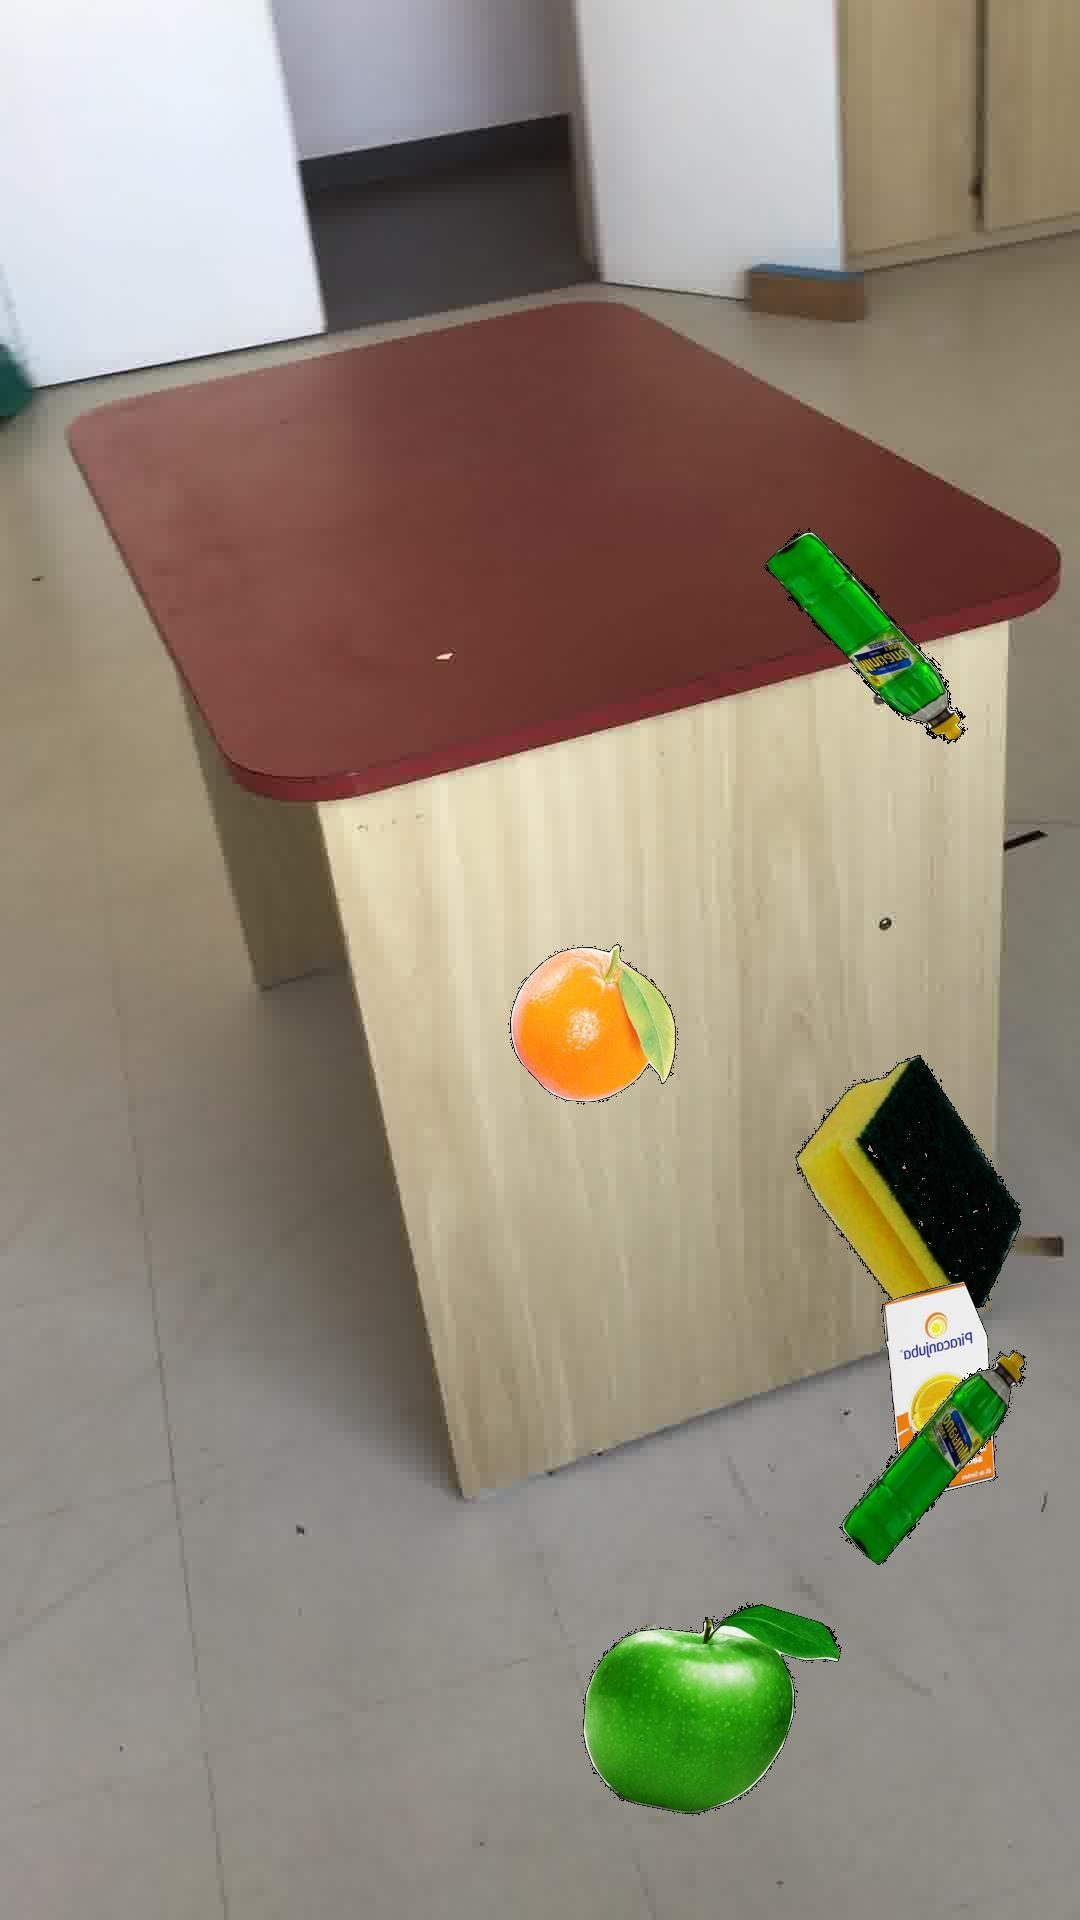cleaner: (765, 526, 964, 742), (837, 1349, 1025, 1564)
green apple: (582, 1602, 840, 1813)
orange: (508, 943, 674, 1101)
sponge: (794, 1054, 1019, 1307)
